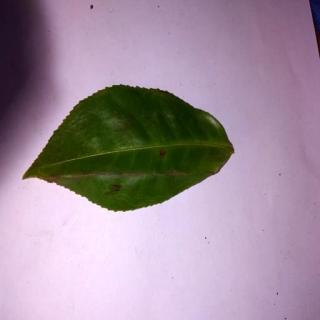Bird Eye Spot: (25, 85, 236, 213)
